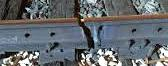duan lie: (75, 17, 99, 49)
